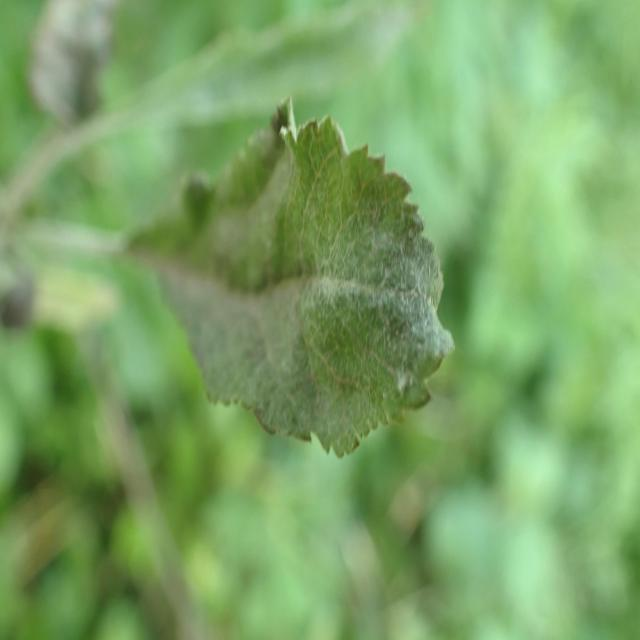Powdery_mildew: (85, 96, 469, 508)
